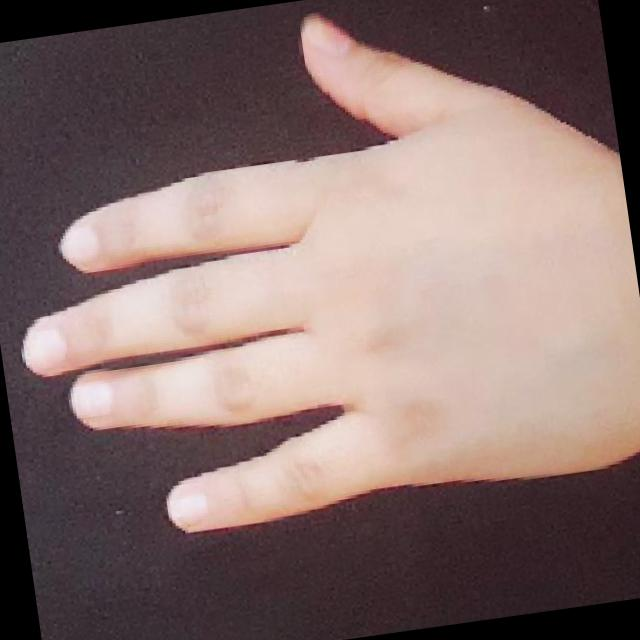Nail: (300, 12, 356, 55), (24, 326, 65, 373), (70, 380, 114, 419), (62, 222, 100, 262), (168, 490, 205, 522)
